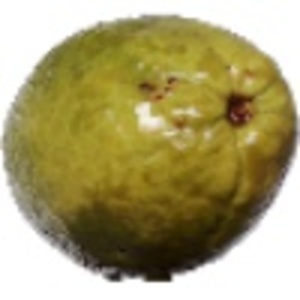goiaba: (4, 13, 297, 273)
